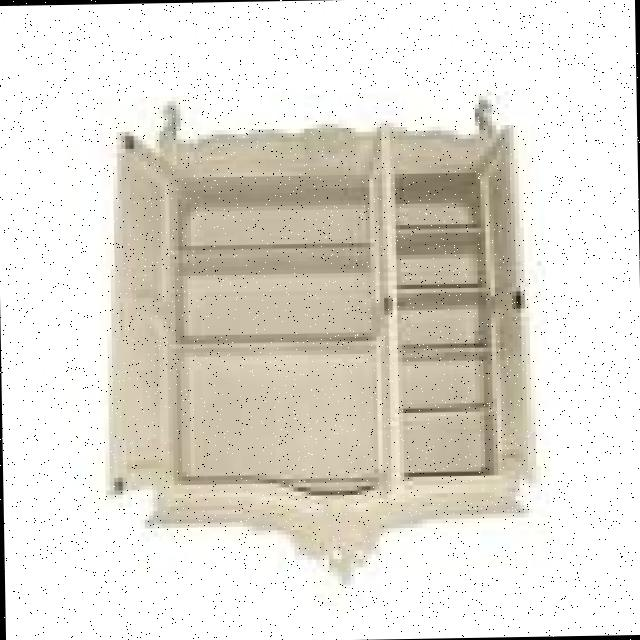Closet: (86, 76, 542, 596)
